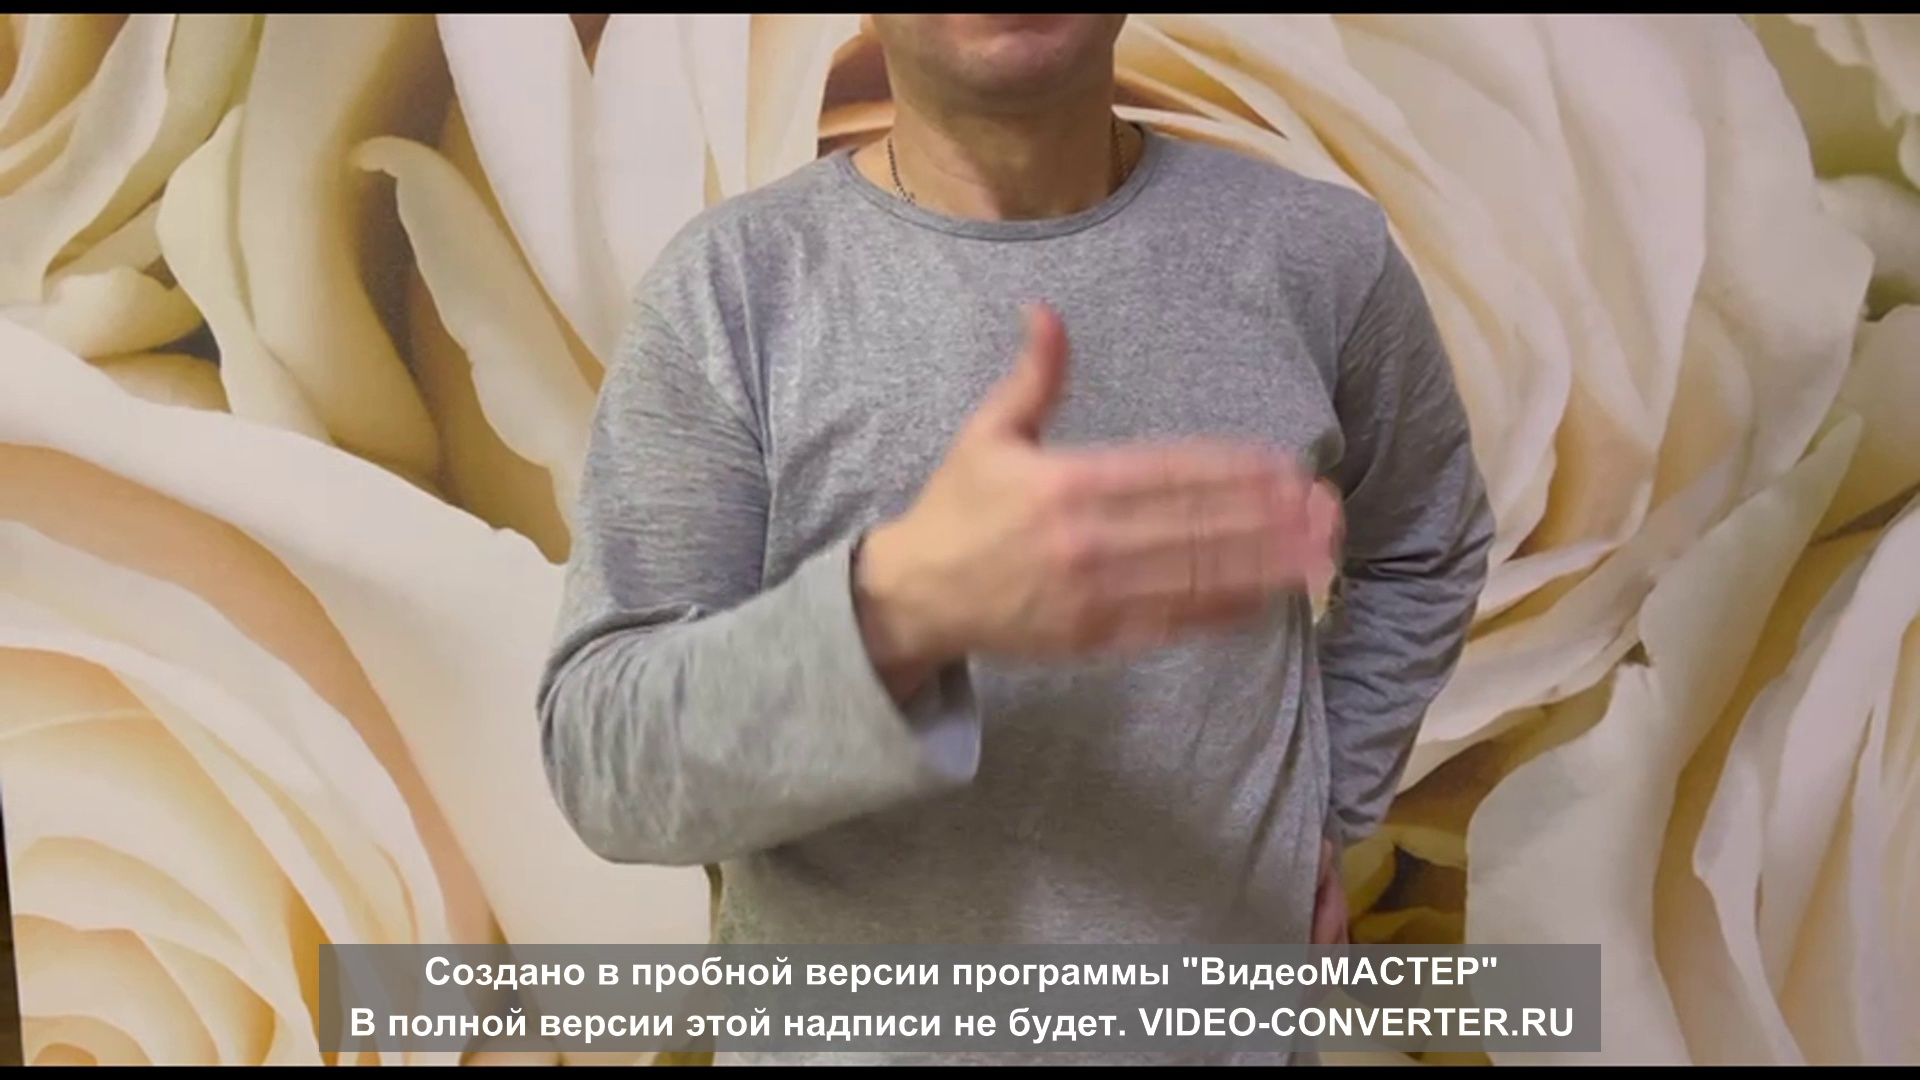Кисть: (910, 307, 1336, 662)
